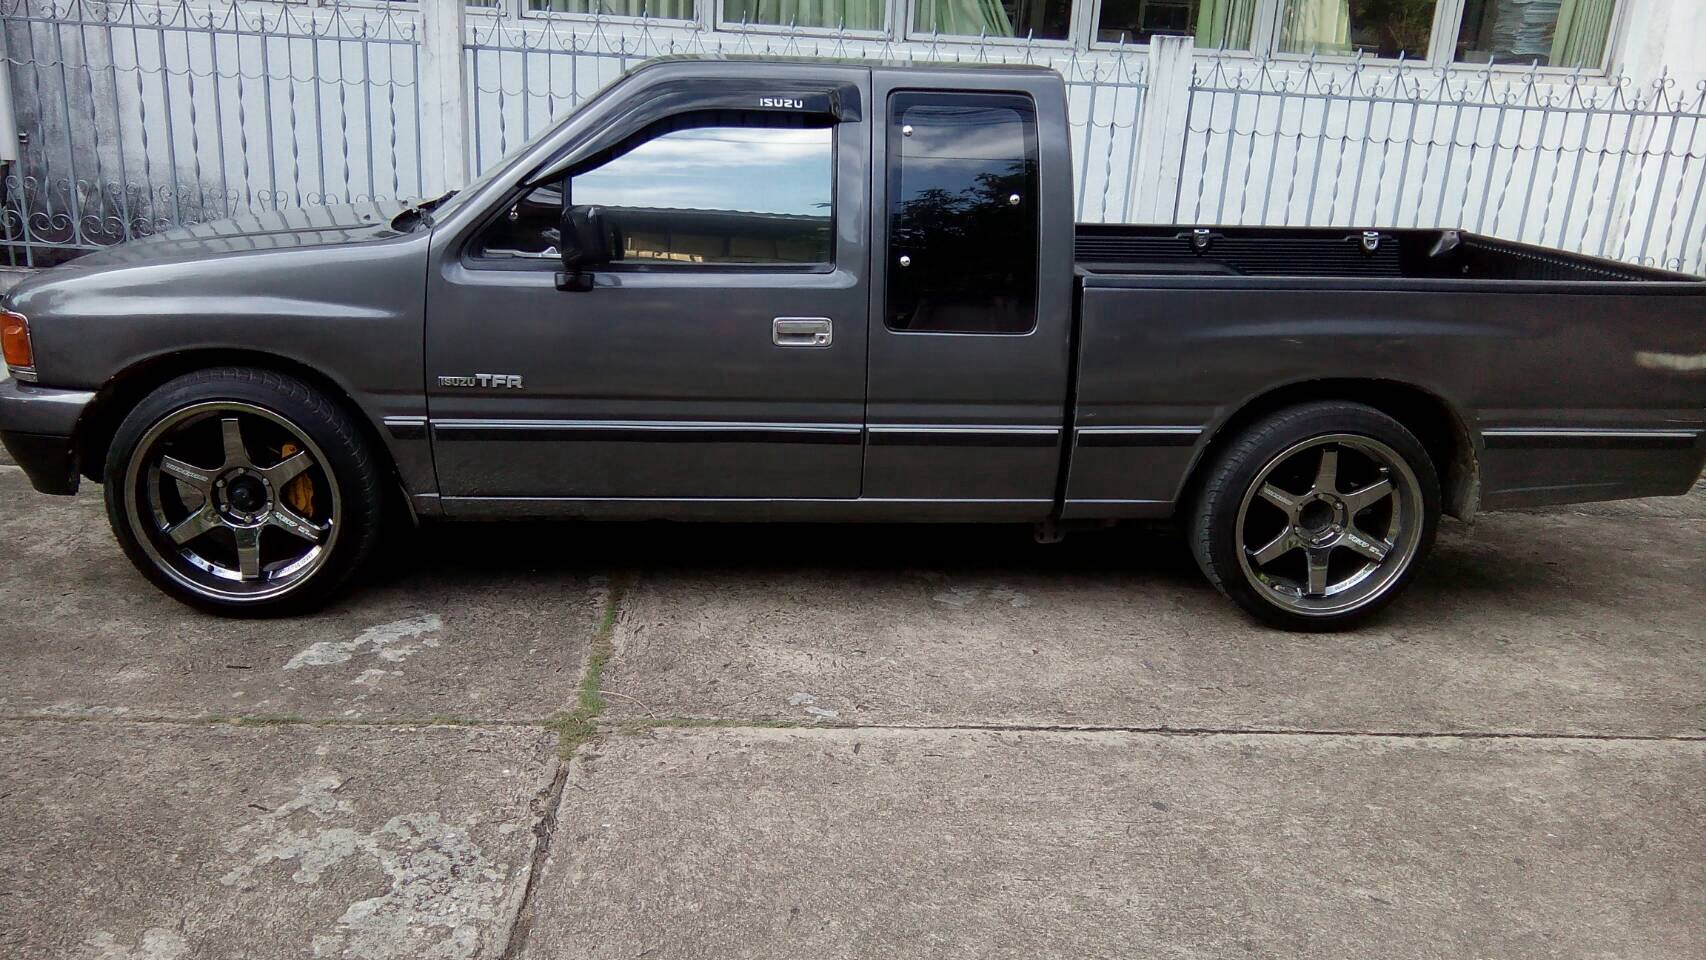pickup: (6, 50, 1701, 636)
